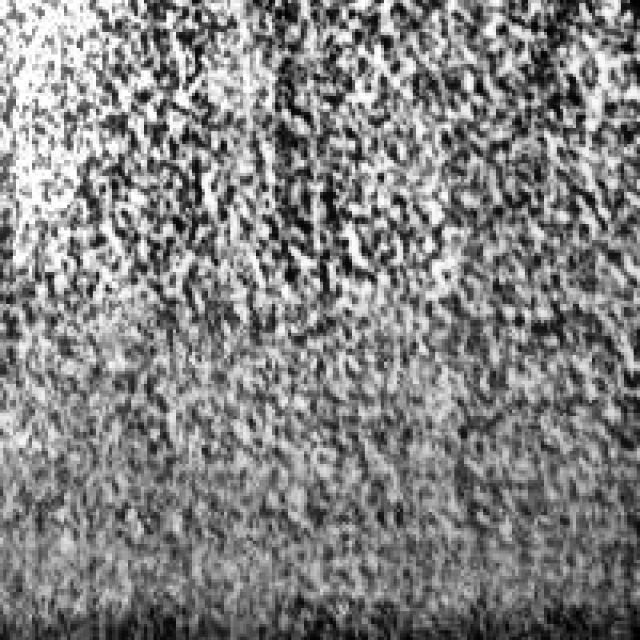Rolled_in_Scale: (0, 0, 633, 326)
